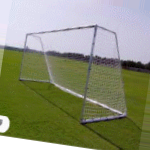goals: (17, 22, 127, 124)
